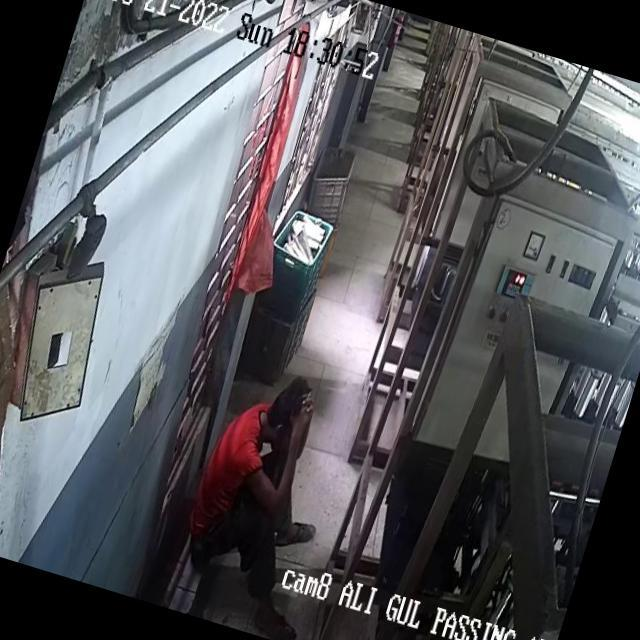person: (174, 359, 356, 620)
